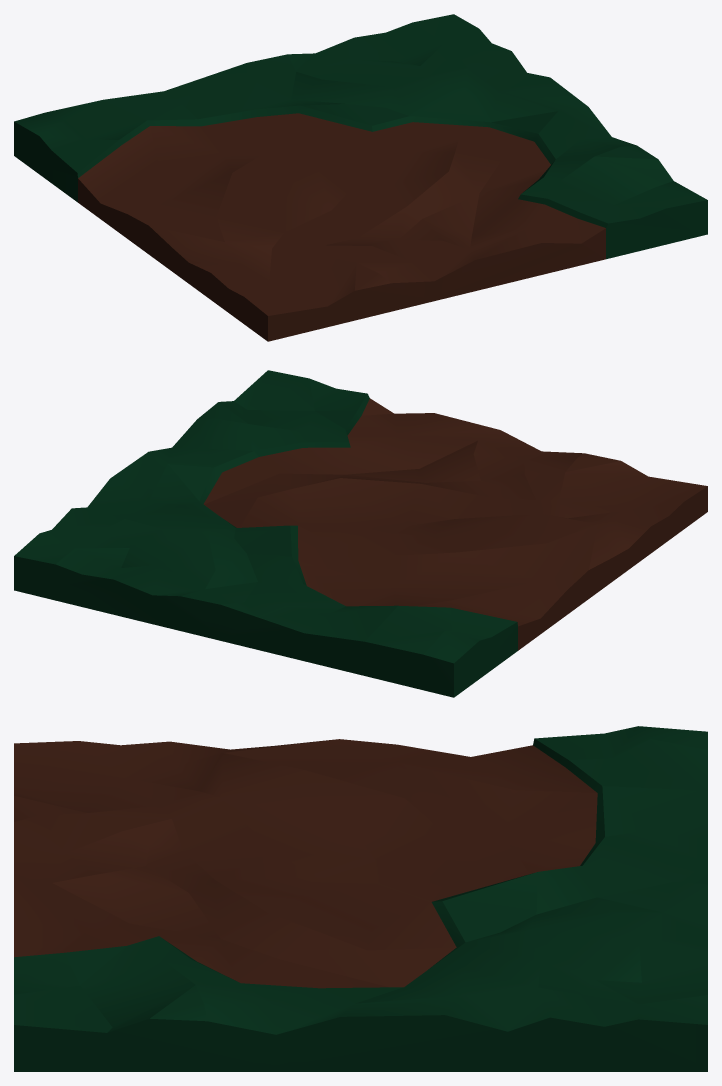
The model's file is Ground_Corner_Internal_RU.fbx.
3 renders of one model, top to bottom at view 1: azimuth 30°, elevation 25°; view 2: azimuth 150°, elevation 25°; view 3: azimuth 270°, elevation 25°, orthographic. The views are drawn at different scales.
Visible parts, largest first — view 1: Ground_Corner_Internal_RU; view 2: Ground_Corner_Internal_RU; view 3: Ground_Corner_Internal_RU.
Part boxes in pixels (x1,y1,x2,y2): Ground_Corner_Internal_RU: (14, 14, 707, 341); Ground_Corner_Internal_RU: (14, 370, 707, 697); Ground_Corner_Internal_RU: (14, 726, 707, 1071).
Bounding box in the file's own units: 147 × 13.97 × 147.
